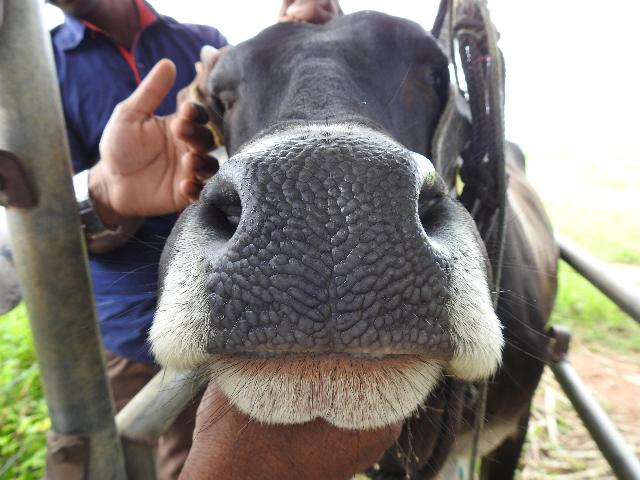Muzzle: (225, 153, 423, 348)
